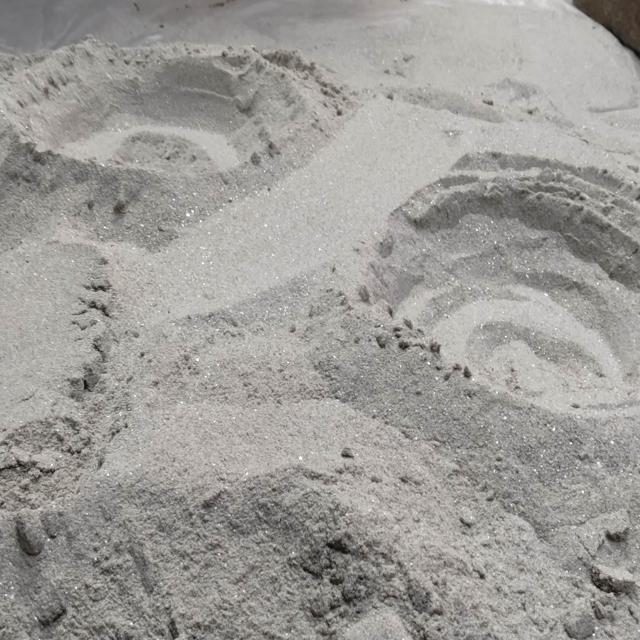C20: (370, 155, 640, 415), (5, 41, 272, 167)
